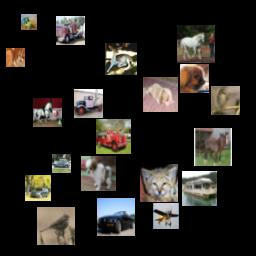airplane: (153, 203, 179, 229)
automobile: (97, 198, 135, 236), (25, 175, 51, 201), (52, 154, 71, 173)
bird: (37, 207, 75, 245), (211, 86, 240, 115)
cat: (140, 164, 178, 202), (6, 48, 25, 67)
deer: (105, 43, 137, 75)
dog: (143, 77, 178, 112), (81, 156, 116, 191), (180, 64, 209, 93)
ship: (182, 171, 217, 206)
truck: (96, 119, 131, 154), (74, 89, 103, 118), (56, 16, 85, 45), (21, 14, 37, 30)
